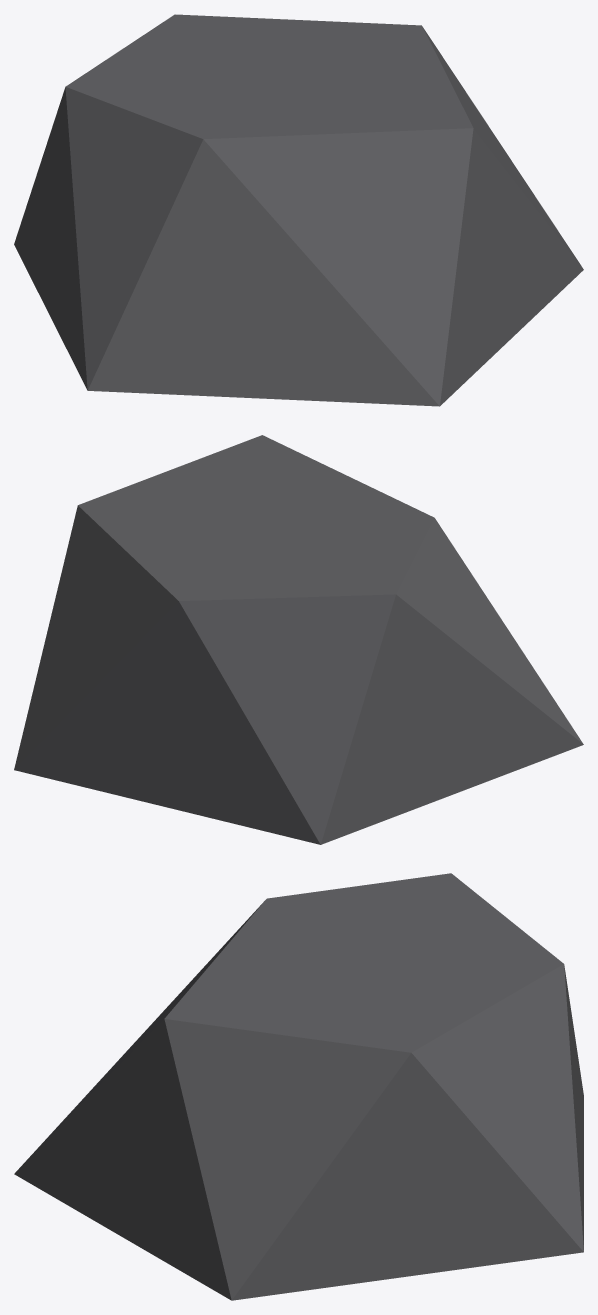
Rendered from TB_Env_Stone4_C.FBX.
3 renders of one model, top to bottom at view 1: azimuth 30°, elevation 25°; view 2: azimuth 150°, elevation 25°; view 3: azimuth 270°, elevation 25°, orthographic. The views are drawn at different scales.
Parts seen in each view (by area): view 1: TB_Env_Stone4_C; view 2: TB_Env_Stone4_C; view 3: TB_Env_Stone4_C.
Part boxes in pixels (bbox=[...]): TB_Env_Stone4_C: bbox=[14, 14, 583, 406]; TB_Env_Stone4_C: bbox=[14, 435, 583, 844]; TB_Env_Stone4_C: bbox=[14, 873, 583, 1300].
Bounding box in the file's own units: 0.5049 × 0.2013 × 0.4802.
